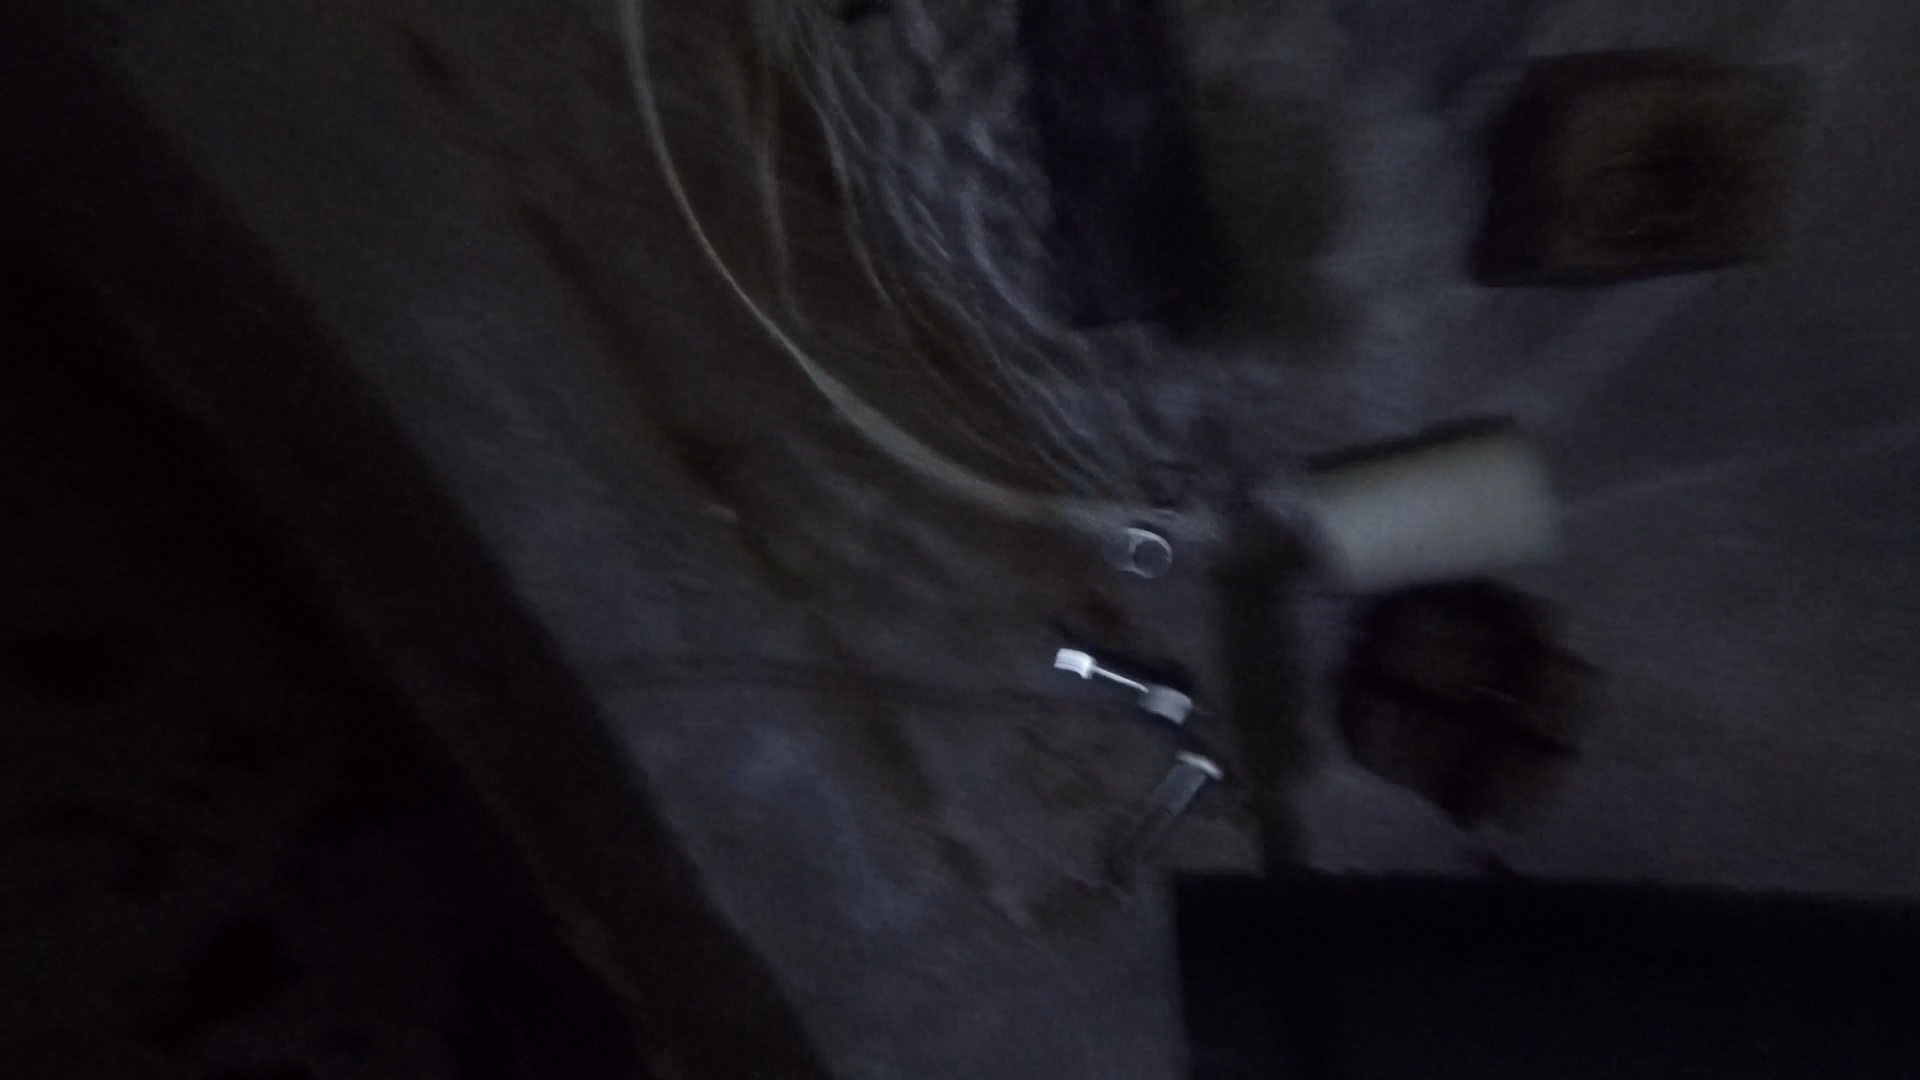bolt: (1345, 585, 1577, 833), (1276, 425, 1569, 601), (1106, 745, 1224, 884), (1040, 637, 1216, 723), (1120, 525, 1175, 587)
led_block: (1489, 51, 1800, 289)
pipe: (1174, 876, 1920, 1079), (1018, 1, 1226, 340)
